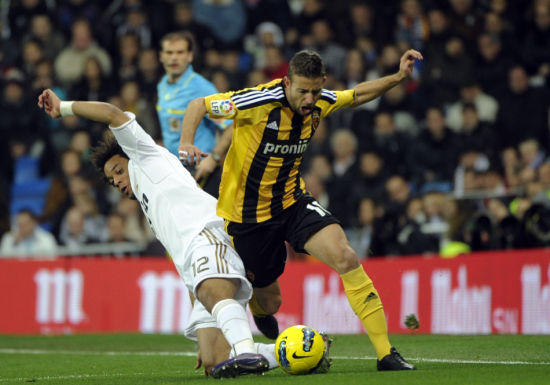10+: (1, 1, 548, 385)
down: (28, 75, 343, 380)
